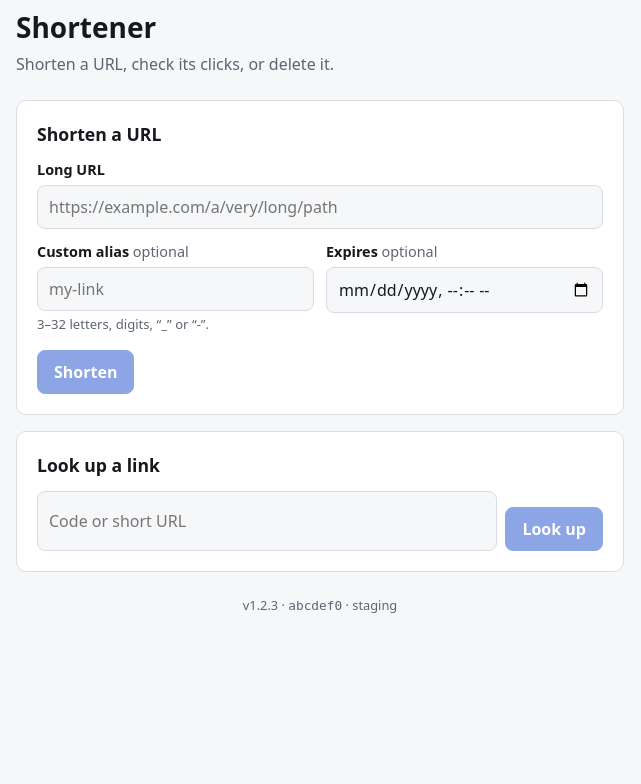
Test case: creating a link › sends the expiry in the browser's timezone, as UTC
Type "https://example.com" into the field labelled "Long URL" at (320, 207), box [37, 185, 603, 229]
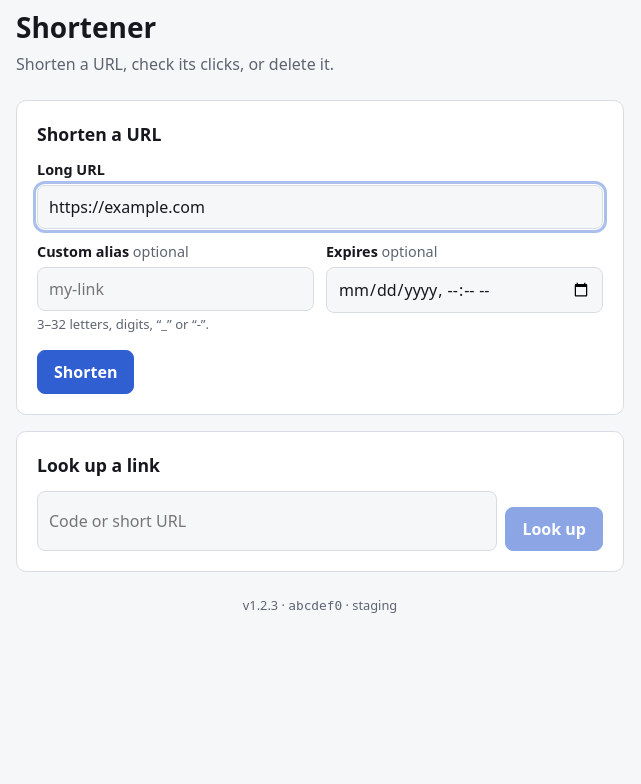
Type "2030-06-01T12:00" into the field labelled "Expires optional" at (464, 290), box [326, 267, 603, 313]
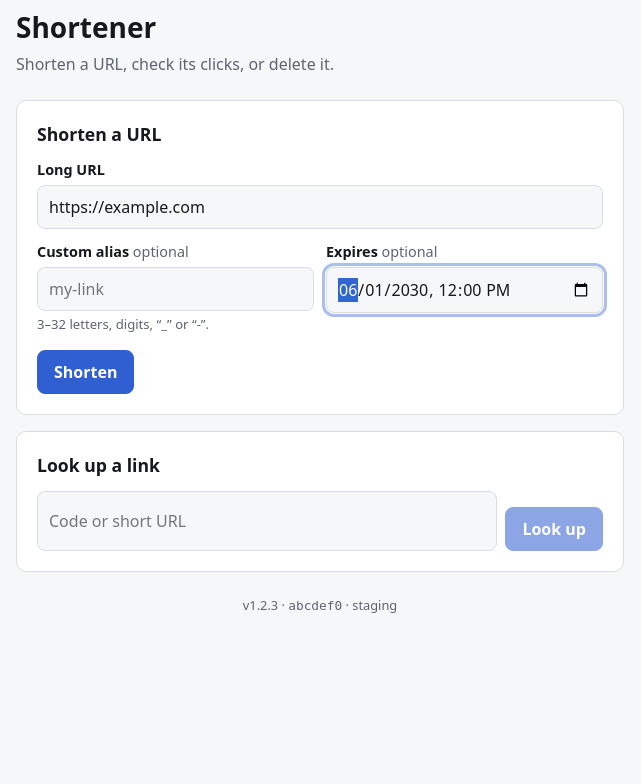
Click the button "Shorten" at (86, 372), box [37, 350, 134, 394]
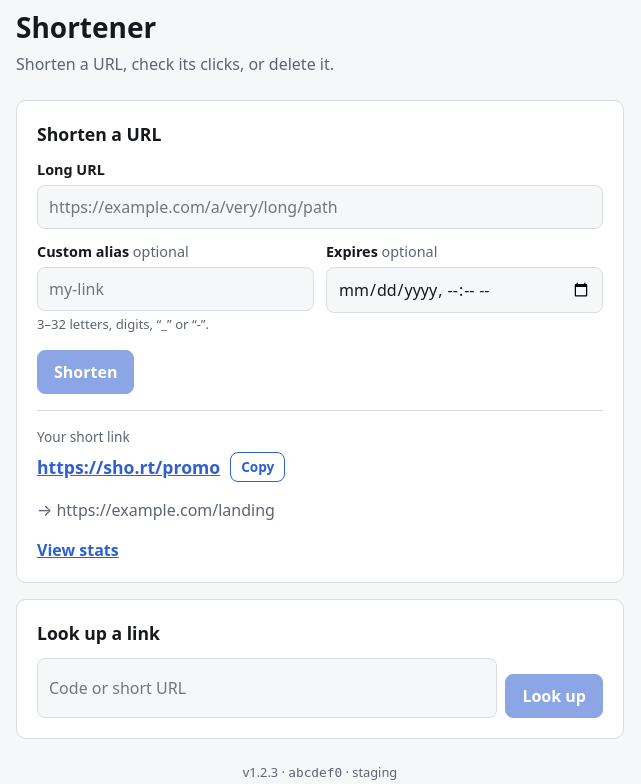
Check: the message is shown, box [37, 410, 603, 562]
